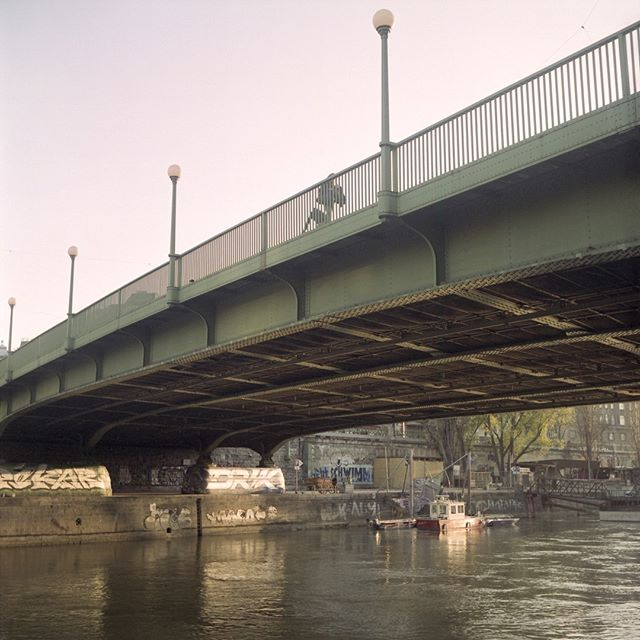boat: (408, 493, 490, 535)
bridge: (1, 21, 640, 515)
graffiti: (1, 455, 108, 498), (192, 462, 287, 495)
light pole: (366, 5, 407, 209), (157, 153, 185, 310), (56, 238, 81, 356), (1, 290, 22, 376)
river: (13, 526, 640, 640)
sky: (6, 1, 370, 280)
